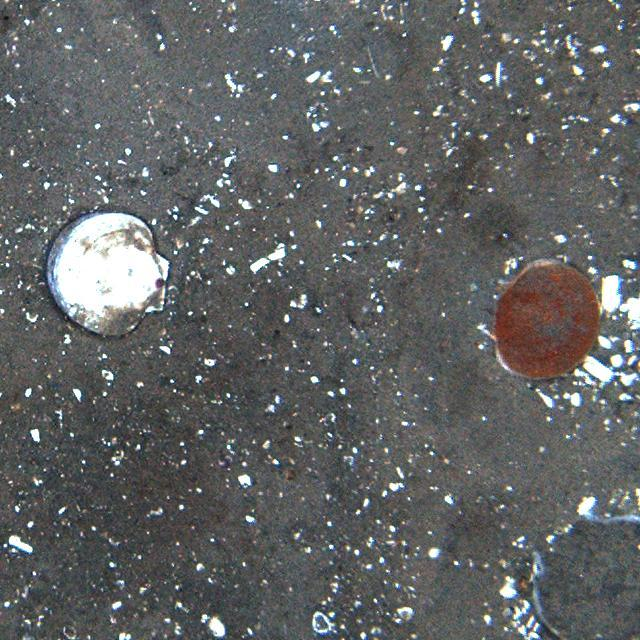scallop: (489, 254, 602, 384)
